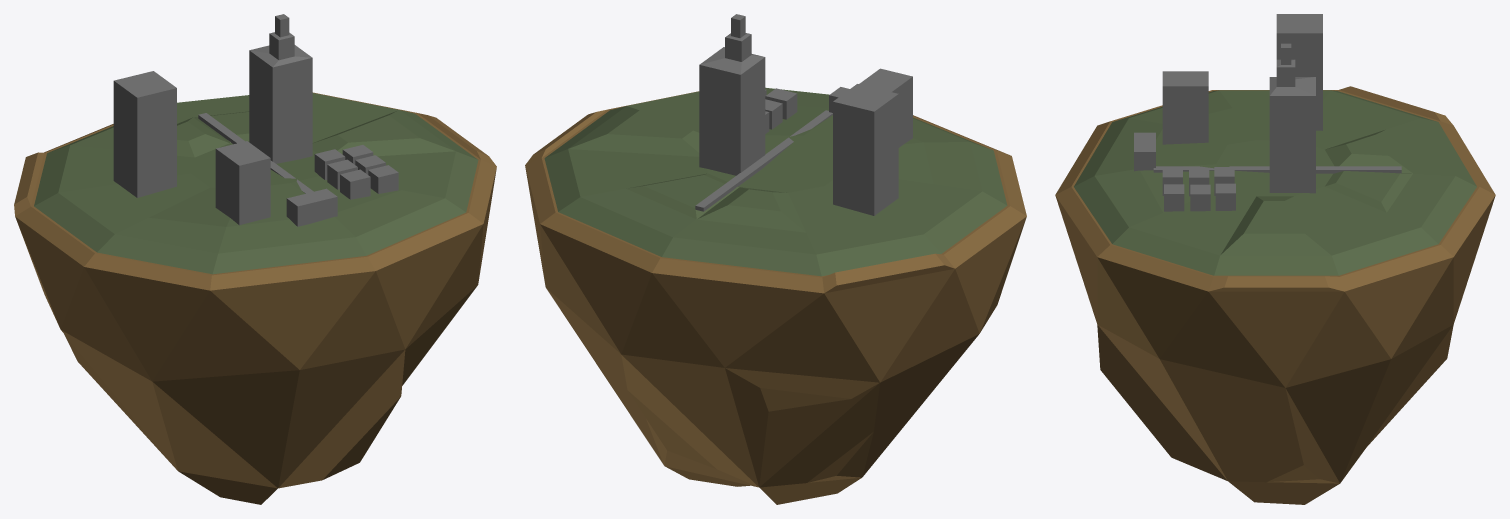
File: city.glb
3 views of the same model, side by side, from view 1: azimuth 30°, elevation 25°; view 2: azimuth 150°, elevation 25°; view 3: azimuth 270°, elevation 25° (orthographic). The views are drawn at different scales.
Parts seen in each view (by area): view 1: planet, planet.001, Cube.001, Cube.002, Cube, Cube.003, Cube.008, Cube.010, Cube.009, Cube.004; view 2: planet, planet.001, Cube.001, Cube.002, Cube, Cube.010, Cube.008; view 3: planet, planet.001, Cube.001, Cube, Cube.002, Cube.010, Cube.003, Cube.005, Cube.009, Cube.007.
Part boxes in pixels (x1,y1,x2,y2): planet: (14, 92, 496, 504); planet.001: (34, 93, 478, 274); Cube.001: (249, 14, 312, 163); Cube.002: (113, 71, 176, 197); Cube: (215, 141, 270, 225); Cube.003: (286, 188, 337, 226); Cube.008: (340, 169, 370, 199); Cube.010: (198, 113, 313, 193); Cube.009: (368, 165, 398, 193); Cube.004: (314, 149, 345, 179); planet: (525, 91, 1026, 504); planet.001: (544, 87, 1007, 276); Cube.001: (699, 14, 765, 175); Cube.002: (833, 84, 898, 215); Cube: (859, 68, 912, 147); Cube.010: (695, 110, 832, 211); Cube.008: (765, 88, 797, 119); planet: (1055, 86, 1495, 504); planet.001: (1074, 90, 1476, 275); Cube.001: (1269, 43, 1315, 193); Cube: (1162, 71, 1208, 144); Cube.002: (1276, 14, 1322, 130); Cube.010: (1153, 166, 1401, 173); Cube.003: (1134, 132, 1155, 171); Cube.005: (1215, 183, 1235, 210); Cube.009: (1164, 184, 1184, 211); Cube.007: (1190, 184, 1210, 211).
Size of the model in its own units: 2.8 by 2.95 by 2.62.
